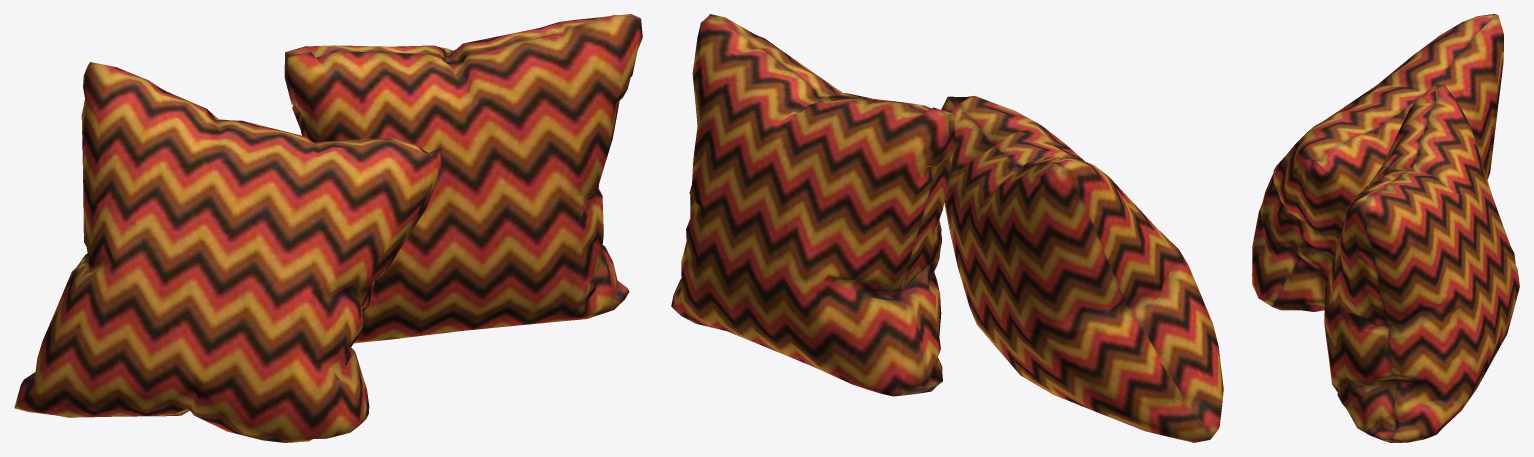
The model's file is throw_pillows_01.lite.glb.
3 views of the same model, side by side, from view 1: azimuth 30°, elevation 25°; view 2: azimuth 150°, elevation 25°; view 3: azimuth 270°, elevation 25° (orthographic). The views are drawn at different scales.
Parts seen in each view (by area): view 1: throw_pillows_01_pillow02; view 2: throw_pillows_01_pillow02; view 3: throw_pillows_01_pillow02.
Boxes of the visible parts, x1,y1,x2,y2 form: throw_pillows_01_pillow02: (14,14,642,442); throw_pillows_01_pillow02: (671,14,1223,442); throw_pillows_01_pillow02: (1252,14,1519,442).
Size of the model in its own units: 0.9351 by 0.4499 by 0.4502.
1 material, 1 textured.
